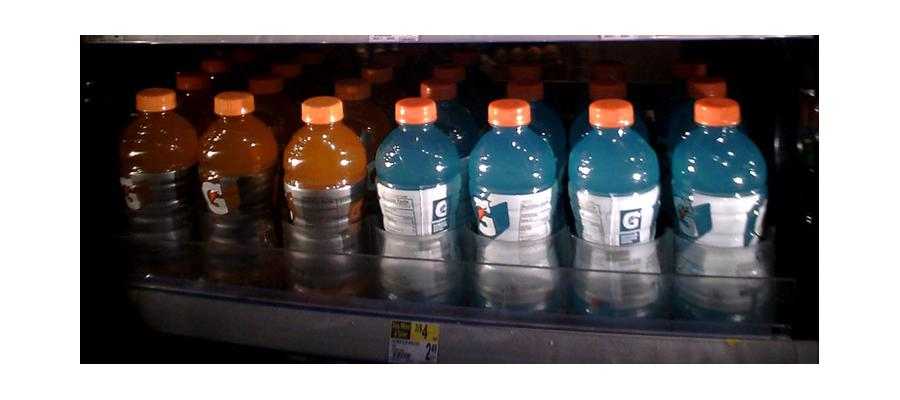bottle: (571, 101, 666, 330), (672, 97, 767, 324), (468, 97, 562, 320), (375, 96, 462, 314), (281, 97, 364, 301), (196, 92, 272, 290), (118, 86, 193, 274)
